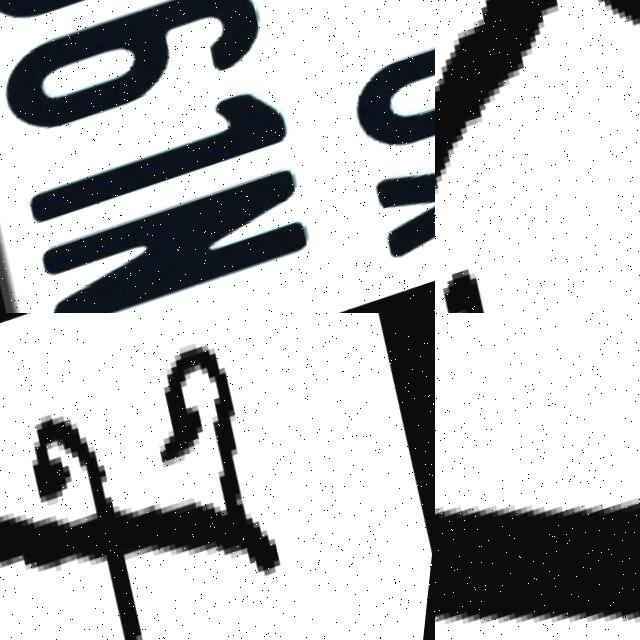1: (435, 313, 640, 640), (18, 76, 303, 222)
5: (0, 0, 263, 39)
6: (0, 0, 279, 137)
H: (0, 442, 360, 640)
K: (435, 0, 640, 247)
N: (46, 164, 334, 313)
U: (341, 0, 435, 168)
X: (375, 99, 435, 263)
